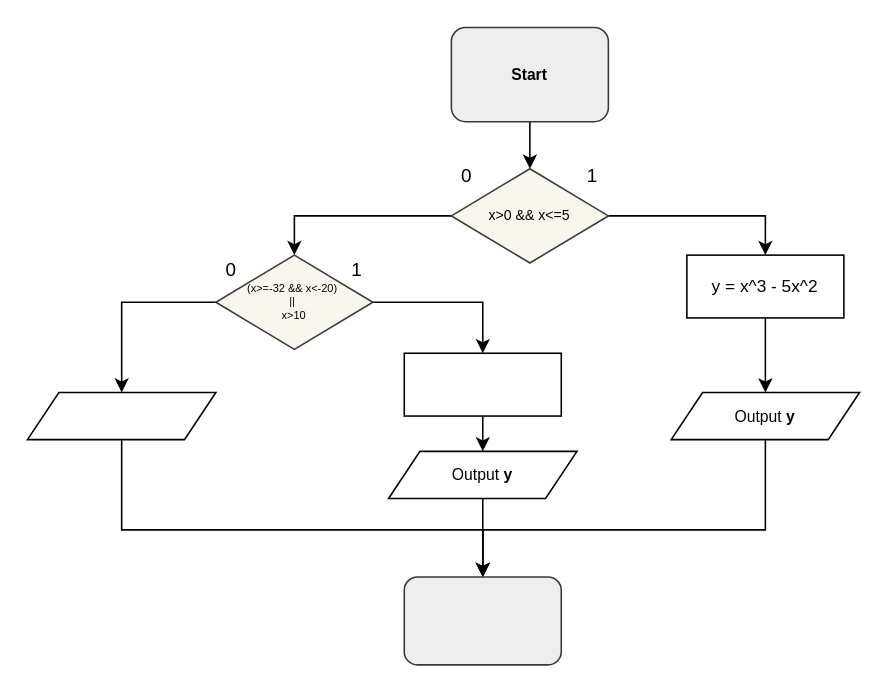
Image size: 887x692. Some labels were removed from this diagram. Here are the shapes that lost their labels. From the top down, the box of each, then its label:
(403, 352, 561, 416): y = x^2 - 3
(26, 391, 216, 440): Output "no value"
(403, 575, 561, 665): End
